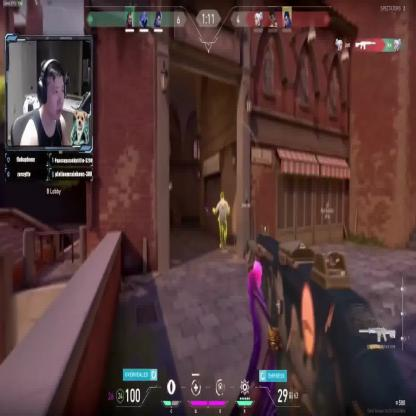enemy: (212, 192, 230, 250)
enemy_head: (219, 192, 224, 200)
